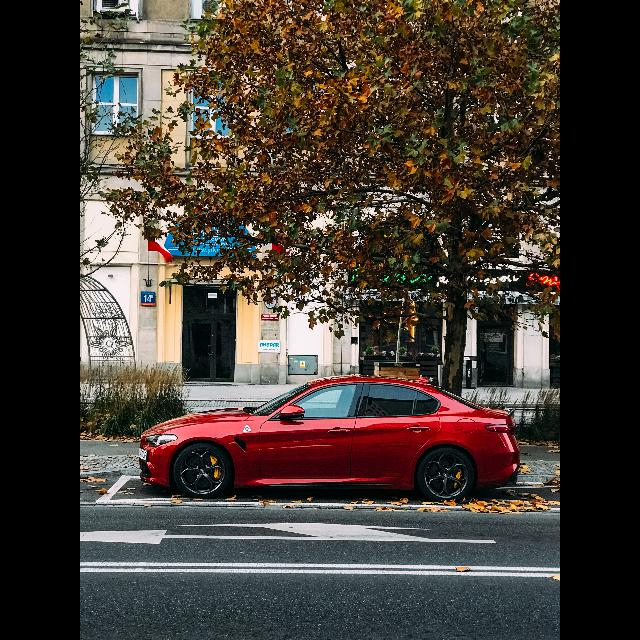cars: (128, 361, 528, 511)
